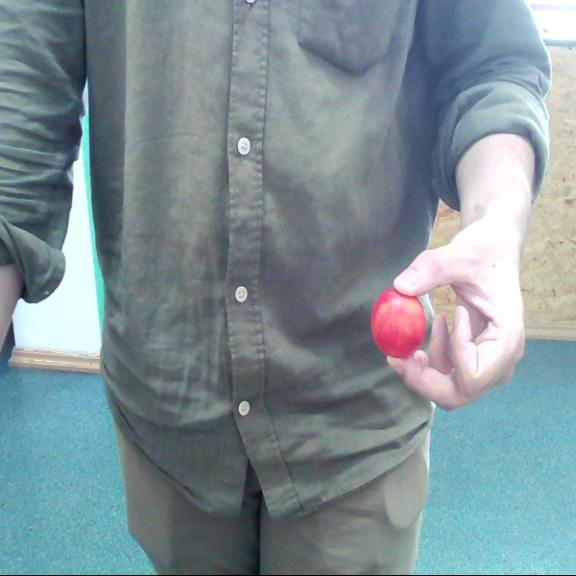ball: (370, 291, 428, 357)
